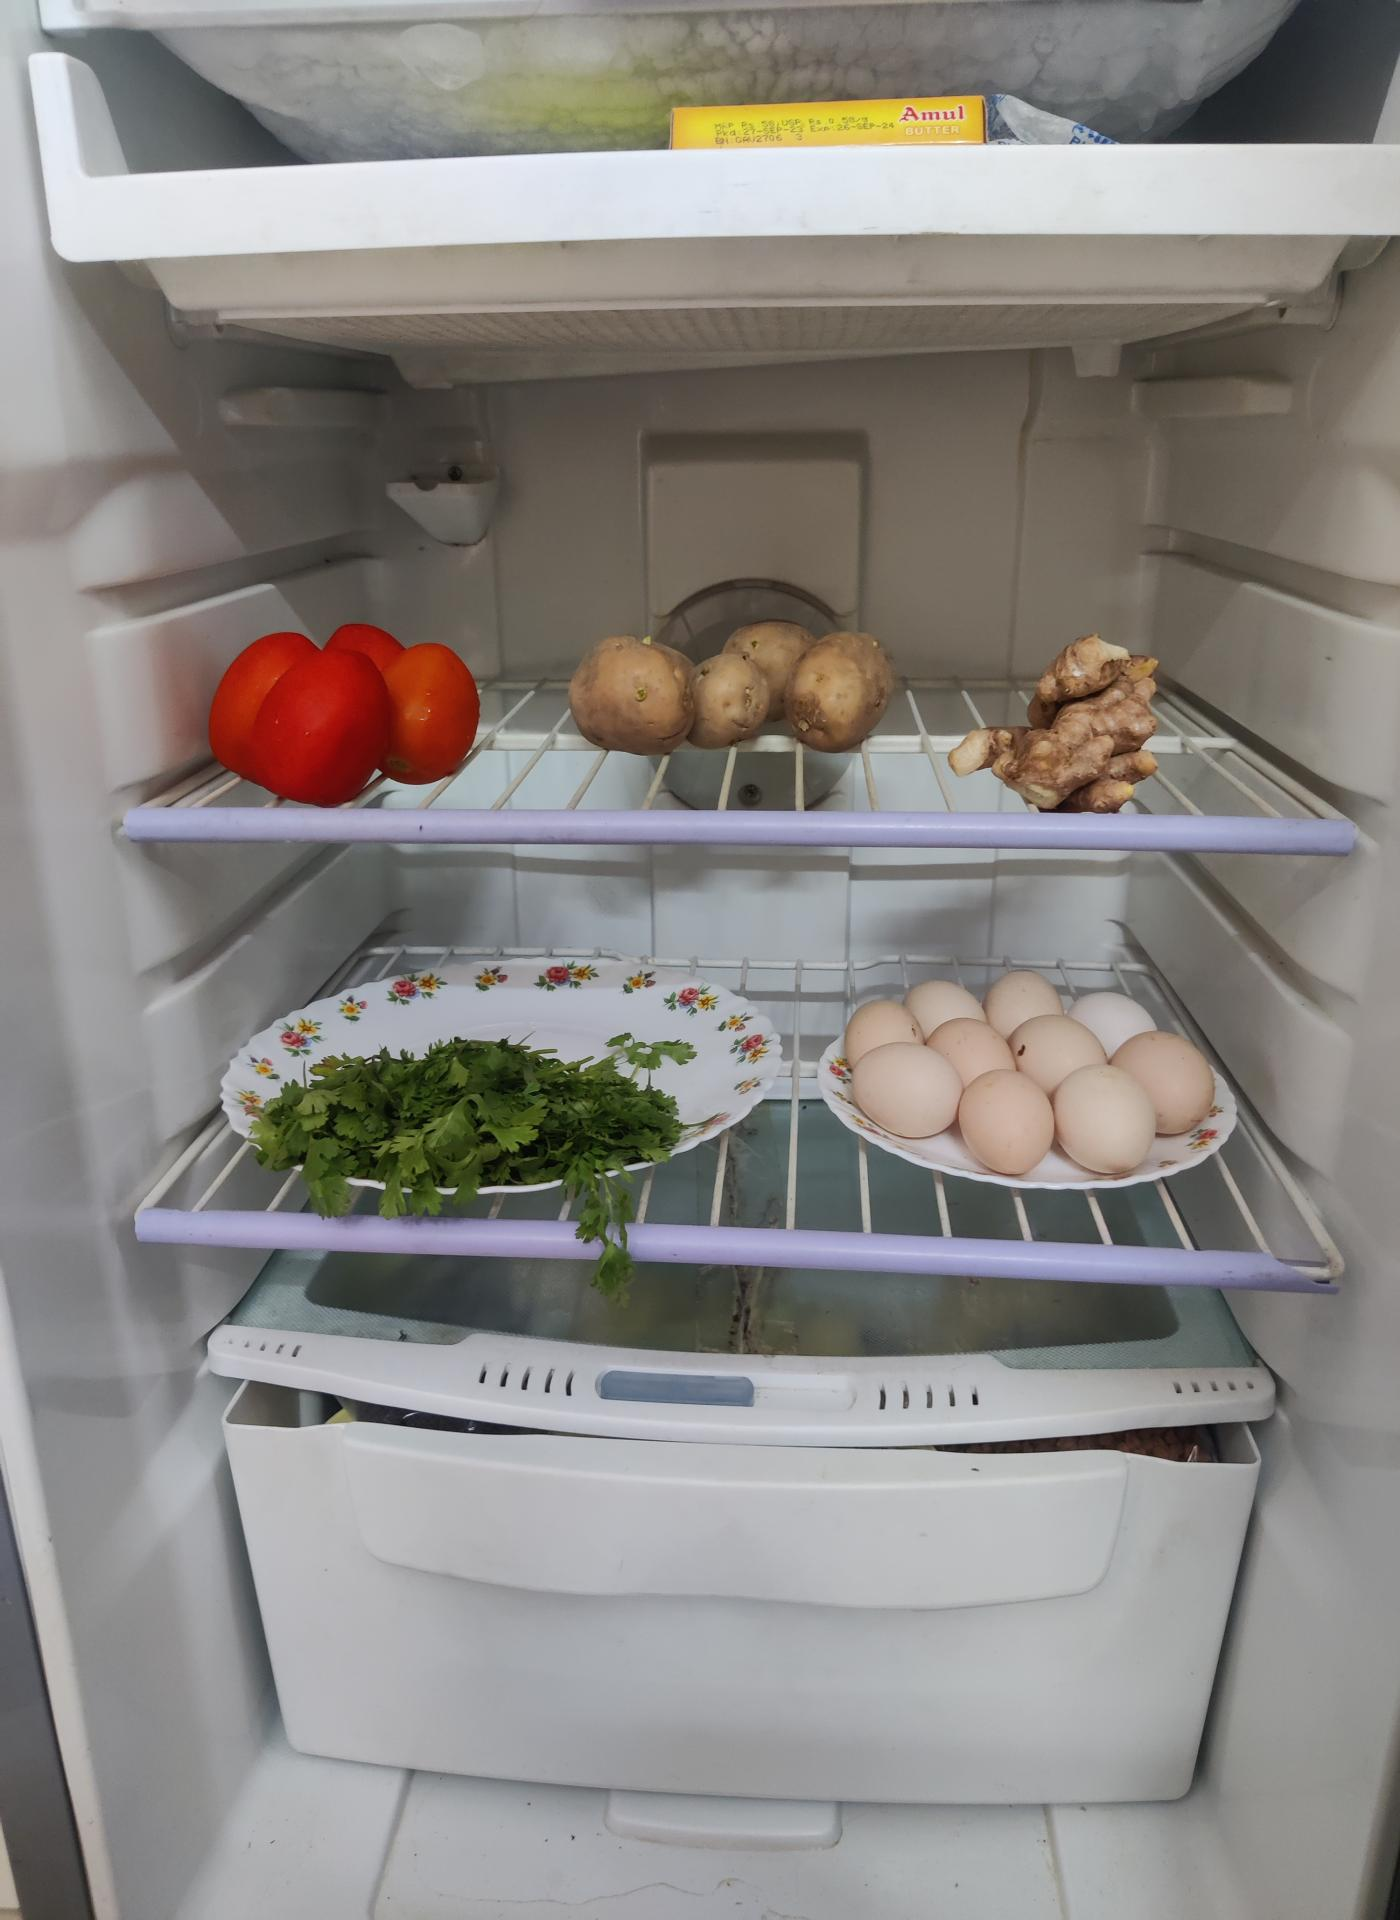coriander: (250, 1033, 686, 1203)
egg: (827, 979, 1214, 1197)
ginger: (969, 632, 1161, 814)
potato: (567, 617, 896, 751)
tomato: (210, 619, 482, 799)
